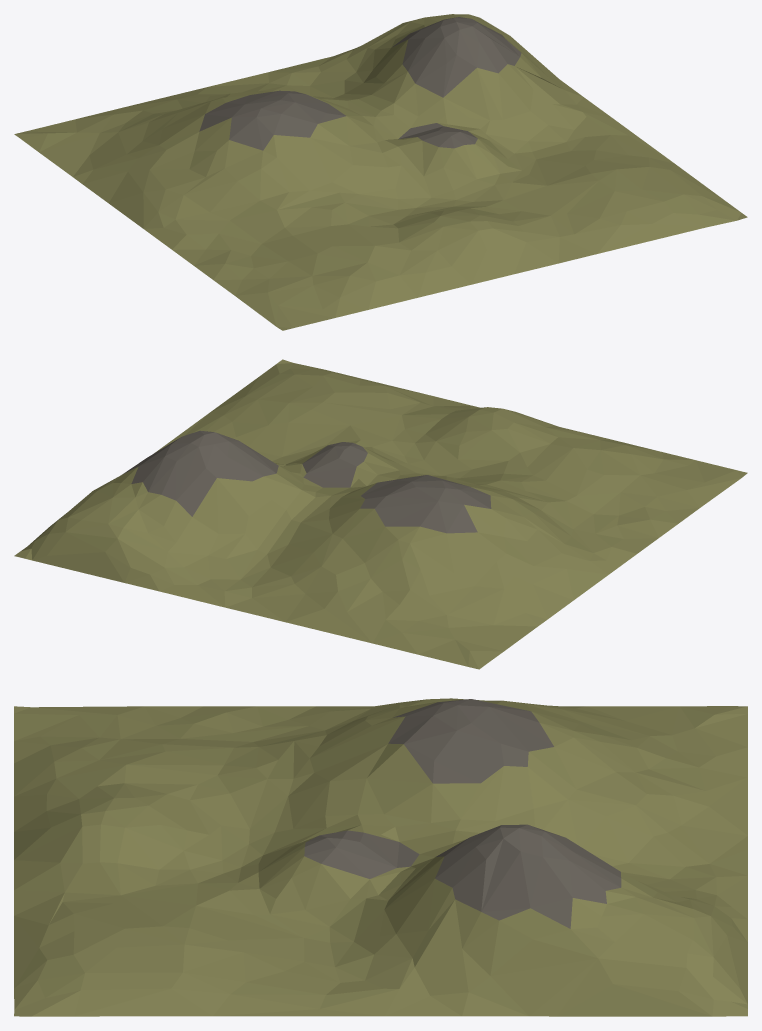
The model's file is fantasy_hills_1.fbx.
3 views of the same model, one above another, from view 1: azimuth 30°, elevation 25°; view 2: azimuth 150°, elevation 25°; view 3: azimuth 270°, elevation 25° (orthographic). The views are drawn at different scales.
Visible parts, largest first — view 1: Plane.005; view 2: Plane.005; view 3: Plane.005.
Part boxes in pixels (x1,y1,x2,y2): Plane.005: [14, 14, 747, 330]; Plane.005: [14, 359, 747, 669]; Plane.005: [14, 698, 747, 1016].
Bounding box in the file's own units: 10002 × 1780 × 10001.
